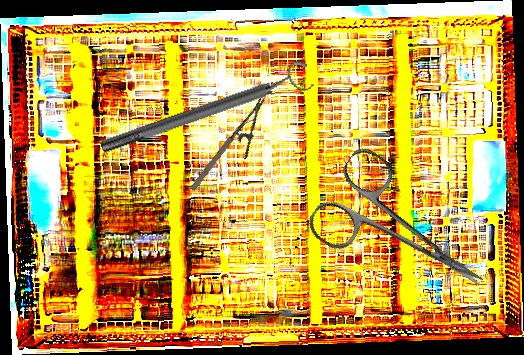Fixation Ring: (95, 57, 316, 163)
Iris Scissors: (302, 143, 508, 328)
Needle Holder: (187, 94, 285, 204)
